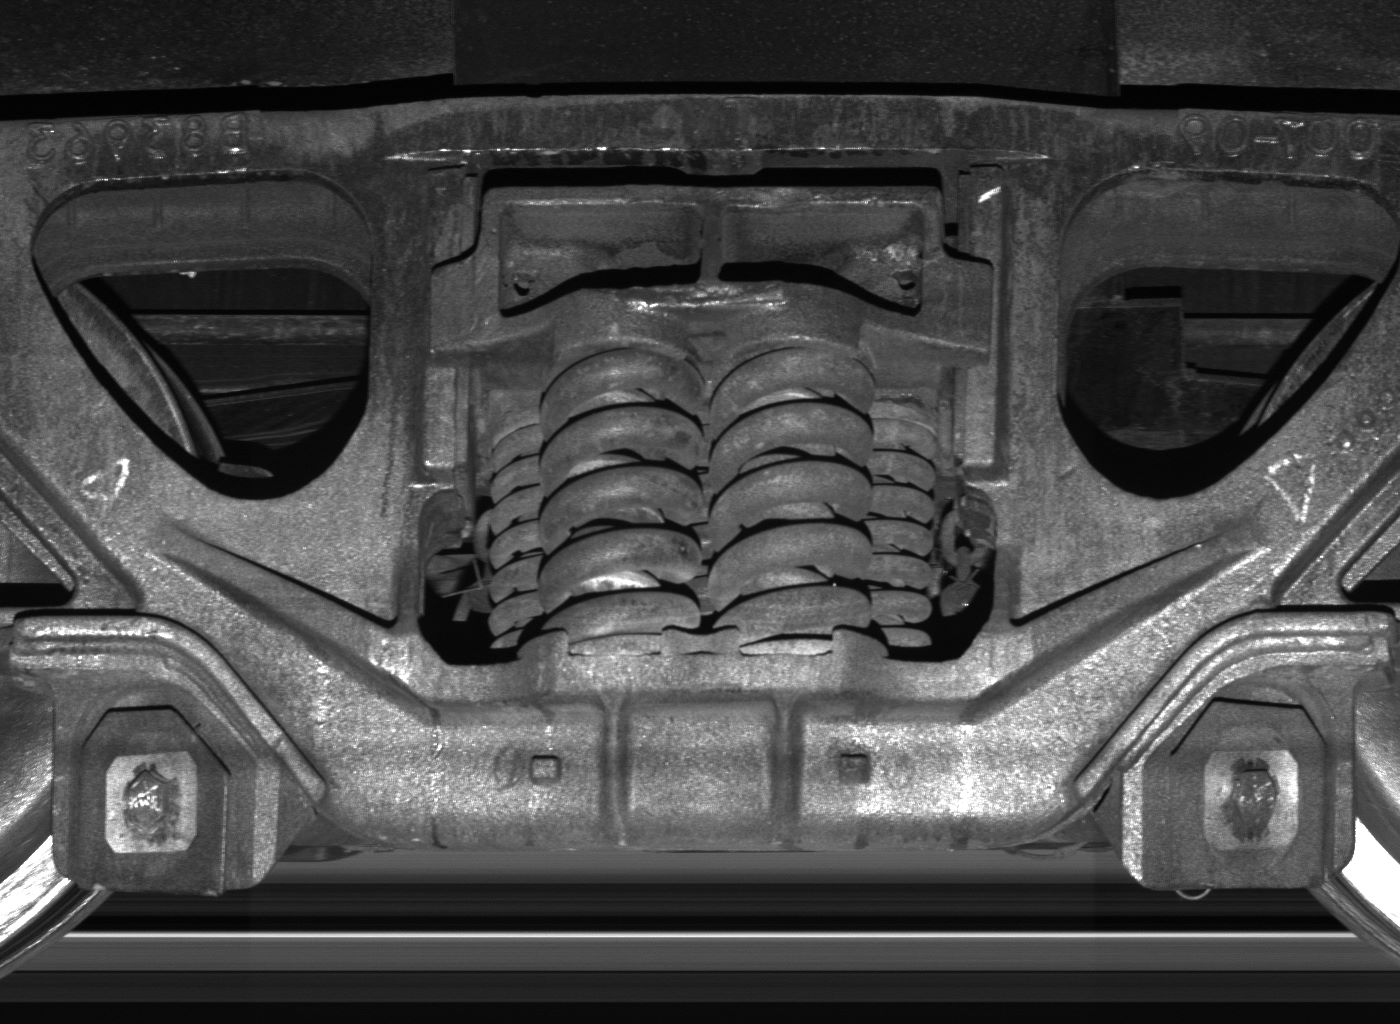normal: (52, 677, 278, 900), (1120, 676, 1355, 889)
